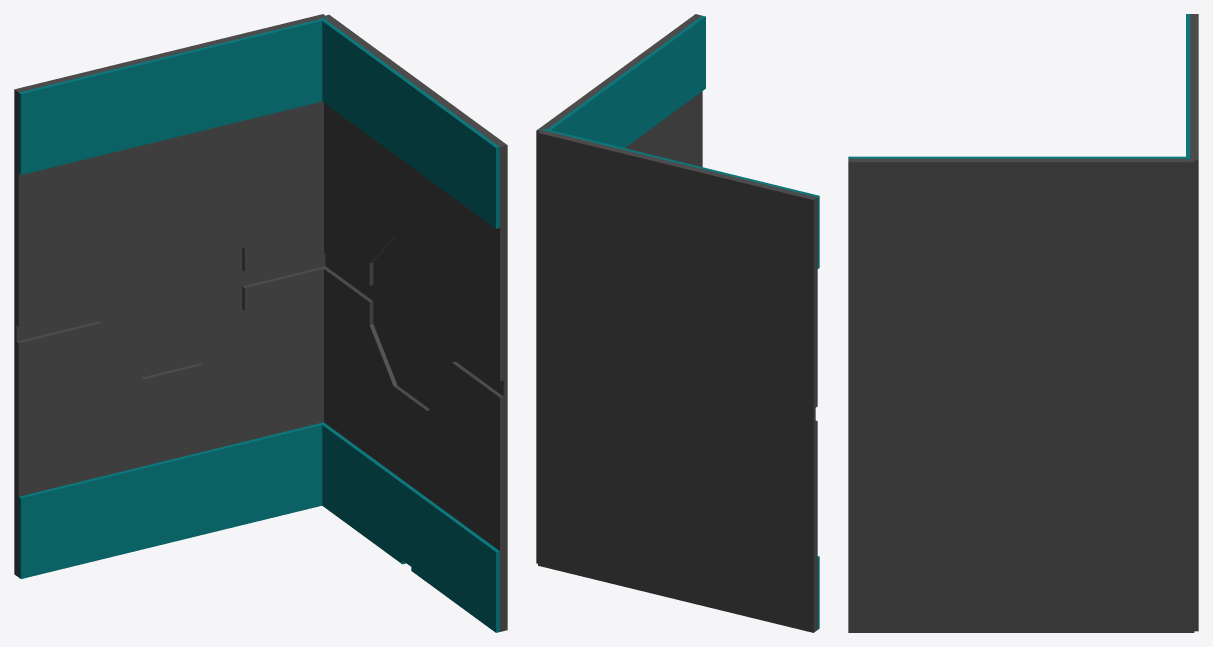
File: Sci Fi Wall Corner 2.glb
3 renders of one model, left to right at view 1: azimuth 30°, elevation 25°; view 2: azimuth 150°, elevation 25°; view 3: azimuth 270°, elevation 25°, orthographic. The views are drawn at different scales.
Parts seen in each view (by area): view 1: Wall.001, Wall, Wall_Panel, Wall_Panel.002, Wall_Panel.001, Wall_Panel.003; view 2: Wall.001, Wall_Panel.001, Wall, Wall_Panel; view 3: Wall, Wall.001, Wall_Panel.001, Wall_Panel.
Boxes of the visible parts, <box> form: Wall.001: <box>14,14,327,576</box>; Wall: <box>322,14,507,631</box>; Wall_Panel: <box>18,17,328,174</box>; Wall_Panel.002: <box>18,422,325,578</box>; Wall_Panel.001: <box>321,19,499,228</box>; Wall_Panel.003: <box>322,422,499,632</box>; Wall.001: <box>538,130,817,632</box>; Wall_Panel.001: <box>546,15,705,147</box>; Wall: <box>536,14,702,563</box>; Wall_Panel: <box>542,128,819,268</box>; Wall: <box>848,158,1194,632</box>; Wall.001: <box>1190,14,1198,631</box>; Wall_Panel.001: <box>848,156,1190,158</box>; Wall_Panel: <box>1186,14,1189,160</box>.
Size of the model in its own units: 4.05 by 6 by 4.05.
